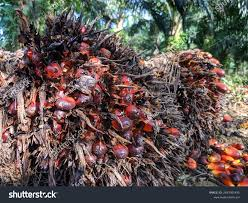PalmOverRipe: (6, 42, 155, 169), (162, 44, 228, 185)
